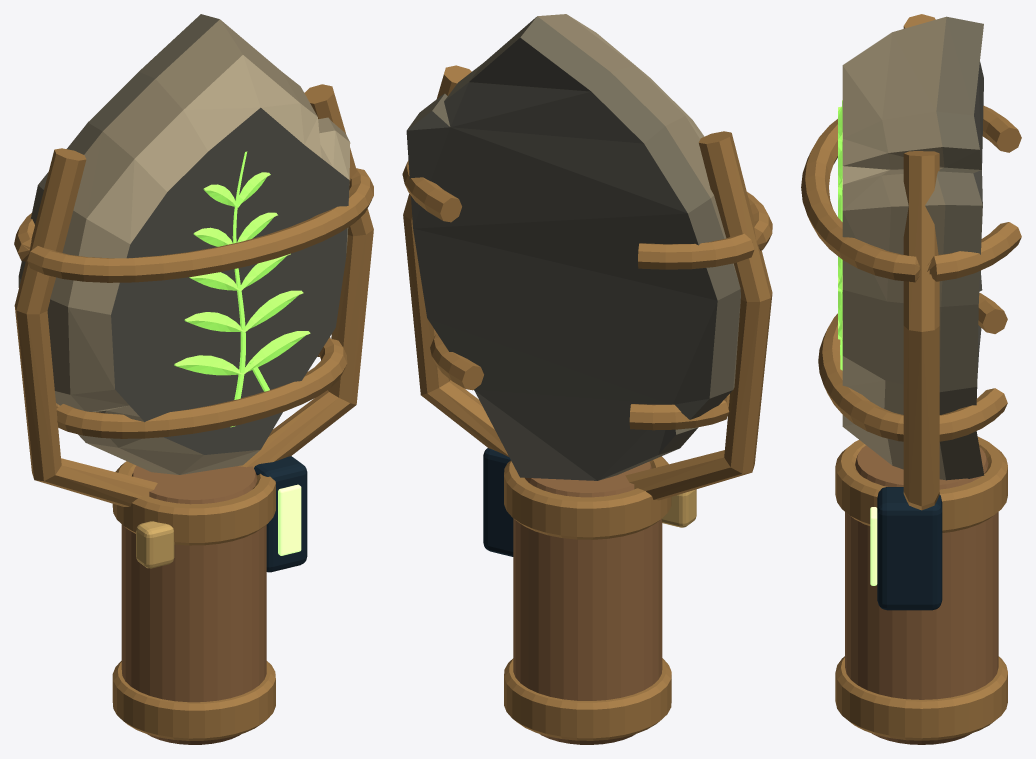
File: KEEPSTONE_TOOL.hi.glb
The picture shows the model from 3 angles, left to right: view 1: azimuth 30°, elevation 25°; view 2: azimuth 150°, elevation 25°; view 3: azimuth 270°, elevation 25°; orthographic projection. The views are drawn at different scales.
Visible parts, largest first — view 1: Body_Mesh; view 2: Body_Mesh; view 3: Body_Mesh.
Boxes of the visible parts, x1,y1,x2,y2 form: Body_Mesh: (14, 14, 373, 744); Body_Mesh: (402, 14, 772, 744); Body_Mesh: (801, 14, 1021, 744).
Size of the model in its own units: 0.181 by 0.3325 by 0.0921.
1 material, 1 textured.
